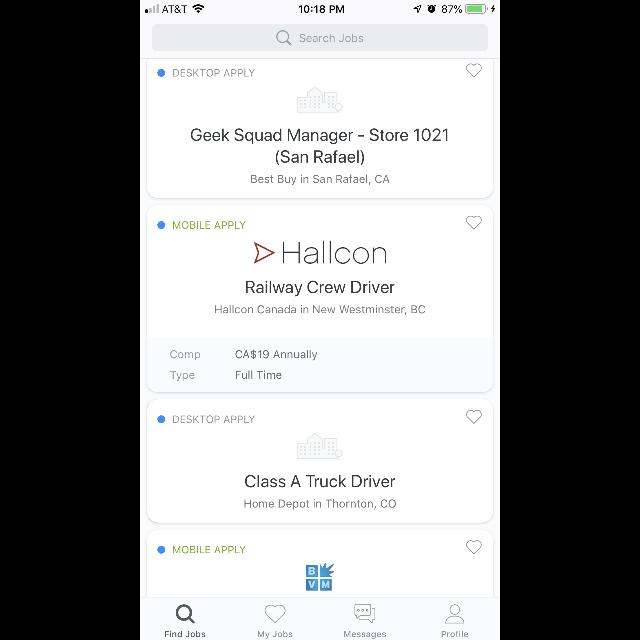icon: (254, 242, 276, 264), (354, 603, 376, 623), (264, 605, 286, 623), (176, 604, 194, 624), (446, 604, 464, 624), (276, 30, 292, 46), (466, 540, 482, 554), (466, 410, 482, 424), (466, 216, 482, 230), (466, 64, 482, 78)
image: (298, 432, 342, 460), (298, 86, 342, 114), (306, 563, 334, 591)
input: (152, 24, 488, 52)
text: (190, 128, 448, 166), (215, 304, 425, 316), (284, 240, 386, 264), (246, 281, 394, 297), (245, 474, 395, 488), (244, 498, 396, 509), (252, 174, 390, 186), (236, 350, 318, 360), (173, 415, 255, 423), (173, 69, 255, 77), (173, 546, 245, 554), (173, 221, 245, 229), (299, 34, 363, 42), (236, 370, 282, 380), (344, 631, 386, 639), (166, 630, 206, 638), (170, 350, 200, 360), (258, 631, 292, 639), (171, 371, 195, 382), (442, 630, 468, 638)
uppertaskbar: (140, 0, 500, 14)
